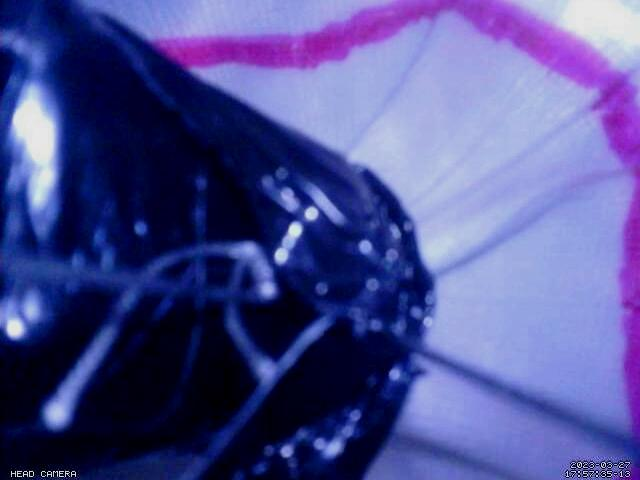red-circle: (148, 0, 640, 480)
